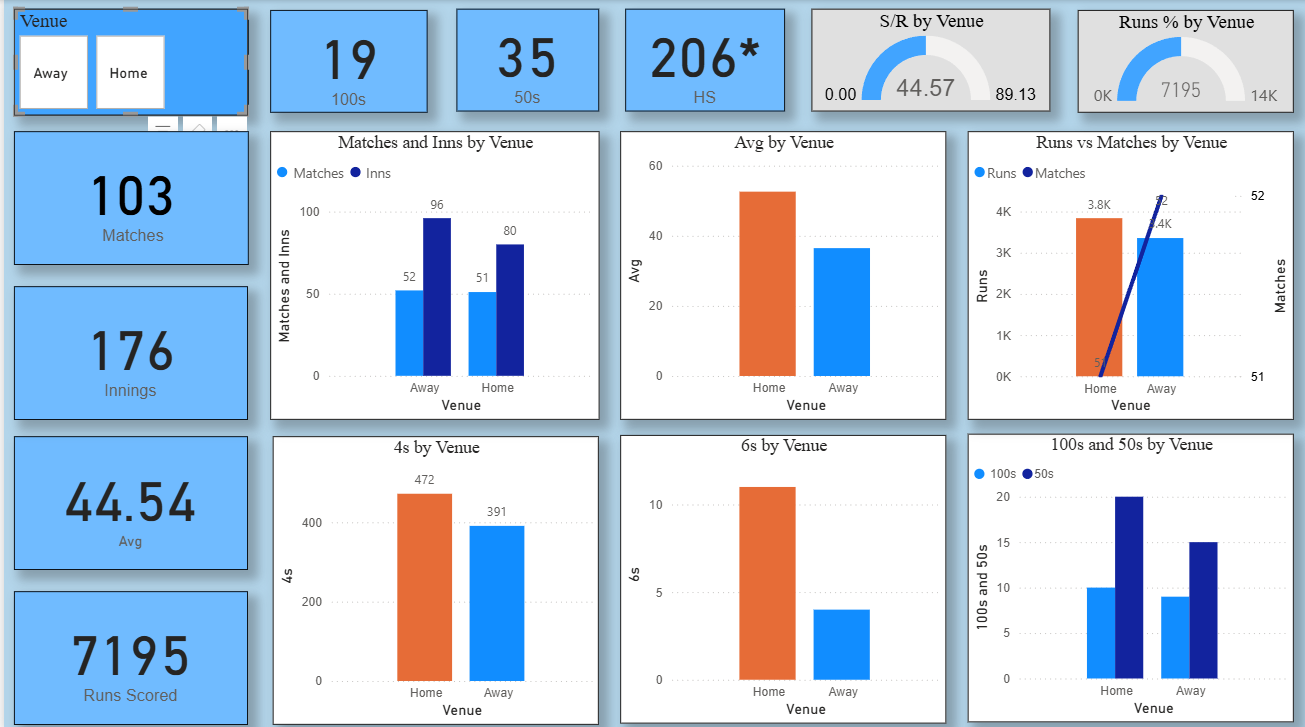

The page's visual inventory and layout, read from the dashboard file:
{"tool":"powerbi","page":{"name":"Page 1","canvas":[1280,720],"ordinal":0},"visuals":[{"type":"columnChart","title":"4s by Venue","fields":{"Category":["By Home or Away.Venue"],"Y":["Sum(By Home or Away.4s)"]},"box":[263.8,428.2,320.2,283.4],"z":0},{"type":"advancedSlicerVisual","fields":{"Values":["By Home or Away.Venue"]},"box":[9.8,8.6,230,105],"z":1000},{"type":"card","fields":{"Values":["Sum(By Home or Away.Mat)"]},"box":[9.8,128.8,230,131],"z":2000},{"type":"columnChart","fields":{"Category":["By Home or Away.Venue"],"Y":["Sum(By Home or Away.Avg)"]},"box":[604.9,128.8,320.2,283.4],"z":3000},{"type":"card","fields":{"Values":["Sum(By Home or Away.100s)"]},"box":[261.4,9.8,154.6,101],"z":4000},{"type":"card","fields":{"Values":["Avg(By Home or Away.Avg)"]},"box":[9.8,428.2,229.4,131.3],"z":5000},{"type":"clusteredColumnChart","fields":{"Category":["By Home or Away.Venue"],"Y":["Sum(By Home or Away.Mat)","Sum(By Home or Away.Inns)"]},"box":[261.4,128.8,323,283],"z":6000},{"type":"columnChart","fields":{"Category":["By Home or Away.Venue"],"Y":["Sum(By Home or Away.6s)"]},"box":[604.9,427,320,283.4],"z":7000},{"type":"card","fields":{"Values":["Sum(By Home or Away.Inns)"]},"box":[9.8,281,229.4,131.3],"z":8000},{"type":"clusteredColumnChart","title":" 100s and 50s by Venue","fields":{"Y":["Sum(By Home or Away.100s)","Sum(By Home or Away.50s)"],"Category":["By Home or Away.Venue"]},"box":[946,425.8,320.2,283.4],"z":9000},{"type":"card","fields":{"Values":["Sum(By Home or Away.50s)"]},"box":[444.2,8.6,139.9,101],"z":10000},{"type":"card","fields":{"Values":["Sum(By Home or Away.Runs)"]},"box":[9.8,580.4,229.4,131.3],"z":11000},{"type":"card","fields":{"Values":["Max(By Home or Away.HS  )"]},"box":[609.8,8.6,157.1,101],"z":12000},{"type":"lineClusteredColumnComboChart","title":"Runs vs Matches by Venue","fields":{"Category":["By Home or Away.Venue"],"Y":["Sum(By Home or Away.Runs)"],"Y2":["Sum(By Home or Away.Mat)"]},"box":[946,128.8,320.2,283.4],"z":13000},{"type":"gauge","title":"Runs % by Venue","fields":{"Y":["Sum(By Home or Away.Runs)"]},"box":[1054,9.8,212.3,100.6],"z":14000},{"type":"gauge","title":"S/R by Venue","fields":{"Y":["Avg(By Home or Away.S/R)"]},"box":[792.6,8.6,234.4,101],"z":15000}]}

Visuals, with their boxes in screenshot pixels (x1, y1, x2, y2), scaled from the page's 1280x720 canvas onto the 1305x727 screenshot:
"4s by Venue" columnChart: 269, 432, 595, 719
advancedSlicerVisual - By Home or Away.Venue: 10, 9, 244, 115
card - Sum(By Home or Away.Mat): 10, 130, 244, 262
columnChart - By Home or Away.Venue x Sum(By Home or Away.Avg): 617, 130, 943, 416
card - Sum(By Home or Away.100s): 267, 10, 424, 112
card - Avg(By Home or Away.Avg): 10, 432, 244, 565
clusteredColumnChart - By Home or Away.Venue x Sum(By Home or Away.Mat): 267, 130, 596, 416
columnChart - By Home or Away.Venue x Sum(By Home or Away.6s): 617, 431, 943, 717
card - Sum(By Home or Away.Inns): 10, 284, 244, 416
" 100s and 50s by Venue" clusteredColumnChart: 964, 430, 1291, 716
card - Sum(By Home or Away.50s): 453, 9, 596, 111
card - Sum(By Home or Away.Runs): 10, 586, 244, 719
card - Max(By Home or Away.HS  ): 622, 9, 782, 111
"Runs vs Matches by Venue" lineClusteredColumnComboChart: 964, 130, 1291, 416
"Runs % by Venue" gauge: 1075, 10, 1291, 111
"S/R by Venue" gauge: 808, 9, 1047, 111
